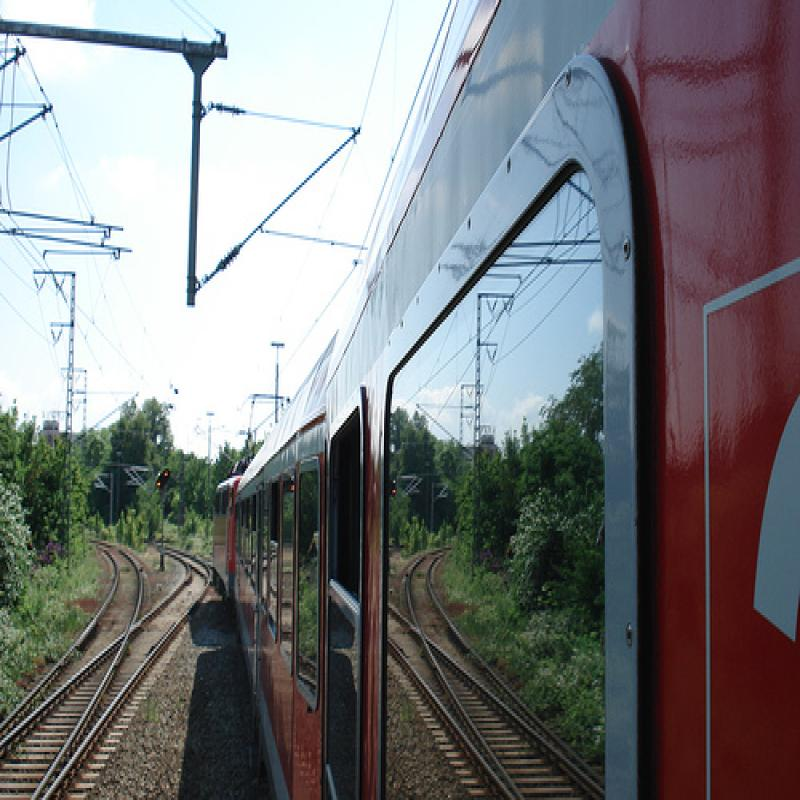train: (206, 1, 799, 796)
